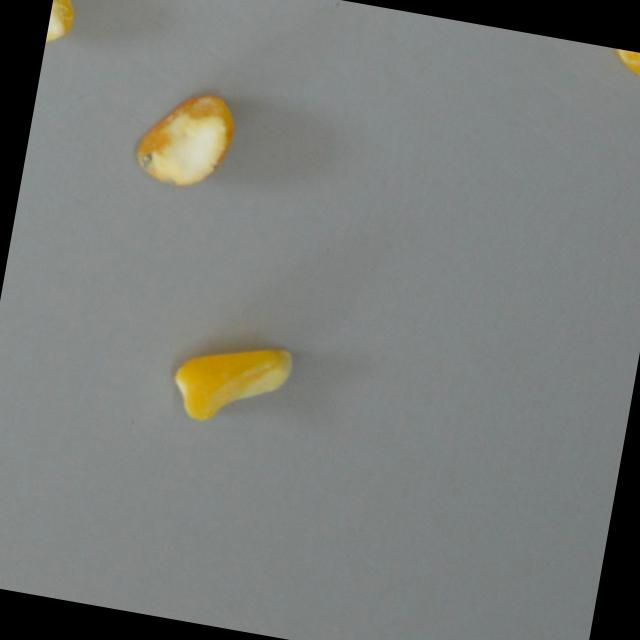dañado: (43, 0, 78, 50)
pelicula: (159, 325, 303, 443), (596, 44, 640, 78)
punto_negro: (116, 81, 247, 202)
